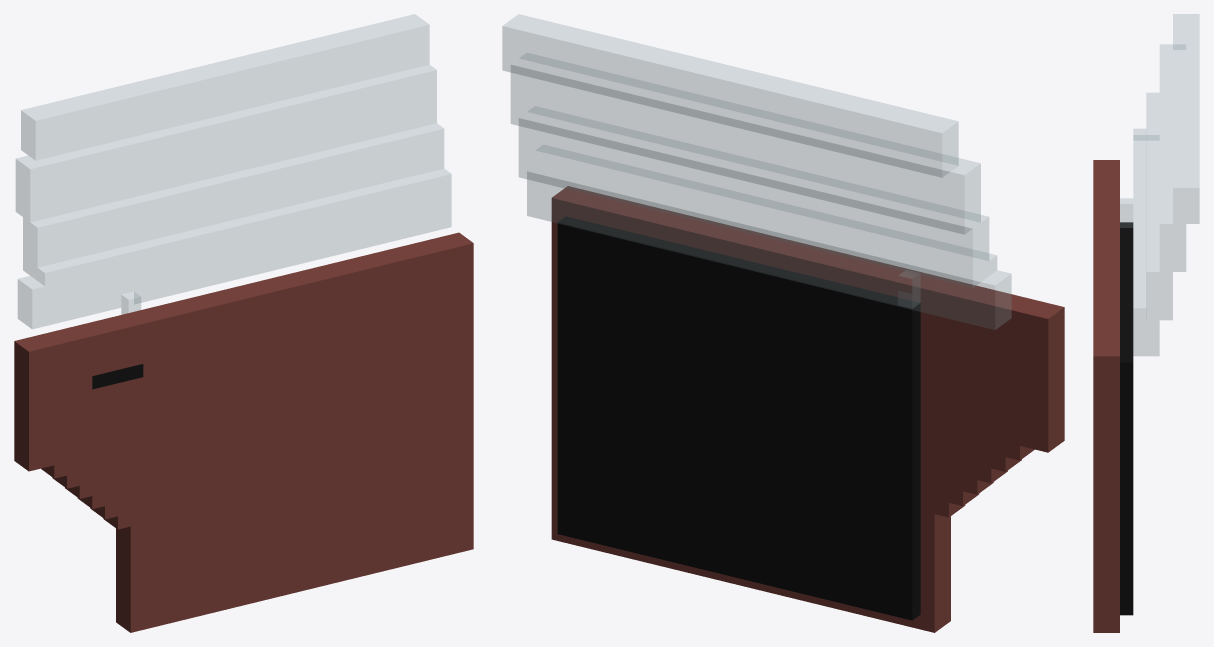
File: luxury_saloon_rear_door.glb
3 views of the same model, side by side, from view 1: azimuth 30°, elevation 25°; view 2: azimuth 150°, elevation 25°; view 3: azimuth 270°, elevation 25° (orthographic). The views are drawn at different scales.
Visible parts, largest first — view 1: body:compound; view 2: body:compound; view 3: body:compound.
Boxes of the visible parts, x1,y1,x2,y2 form: body:compound: [14, 14, 473, 632]; body:compound: [502, 14, 1064, 632]; body:compound: [1093, 14, 1199, 632].
Size of the model in its own units: 1.09 by 1.16 by 0.25.
